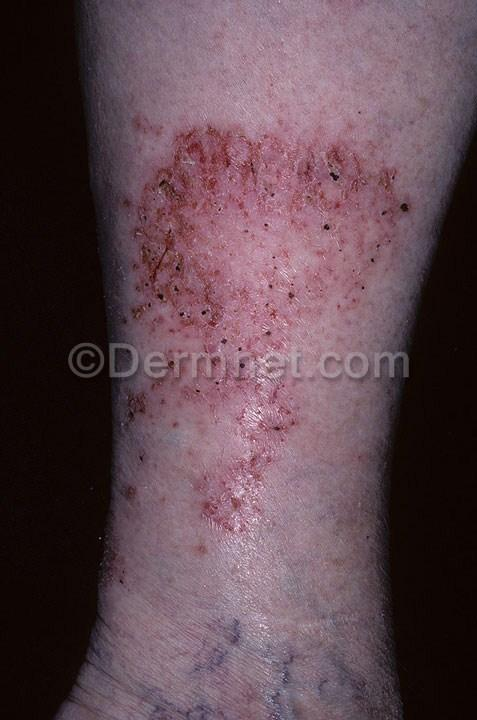Eczema: (138, 105, 252, 251), (107, 236, 233, 365), (218, 225, 334, 360), (101, 474, 211, 606), (331, 100, 424, 248), (112, 364, 221, 489), (245, 97, 339, 228), (204, 468, 318, 562), (324, 251, 415, 358), (226, 364, 307, 477), (327, 410, 400, 510), (102, 172, 153, 236)
